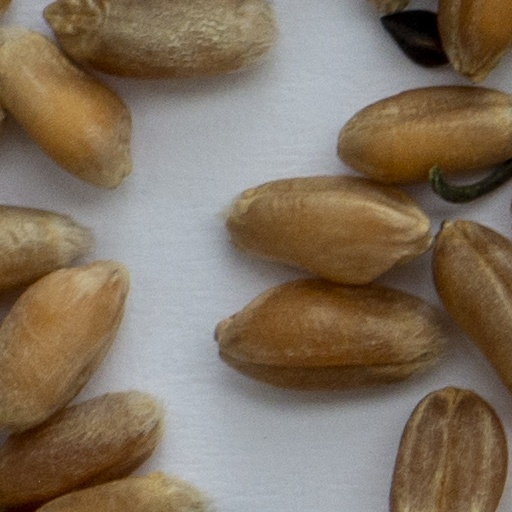Fallopia-Convolvulus-poly: (383, 10, 446, 64)
